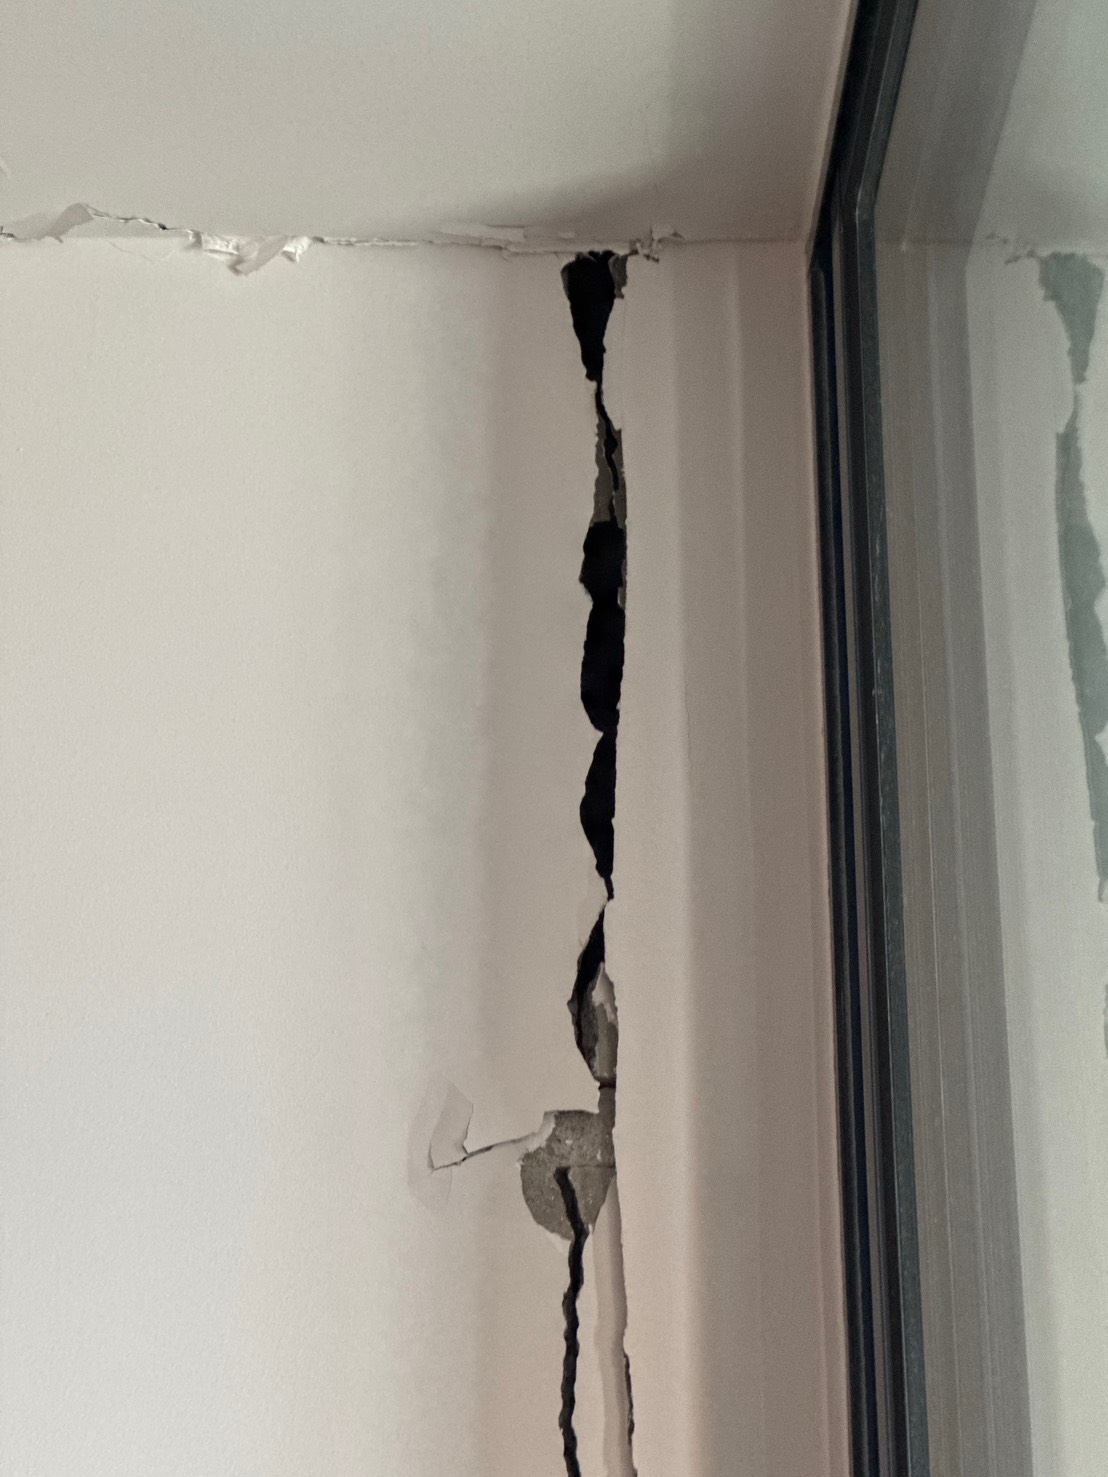Medium: (496, 687, 694, 1421)
